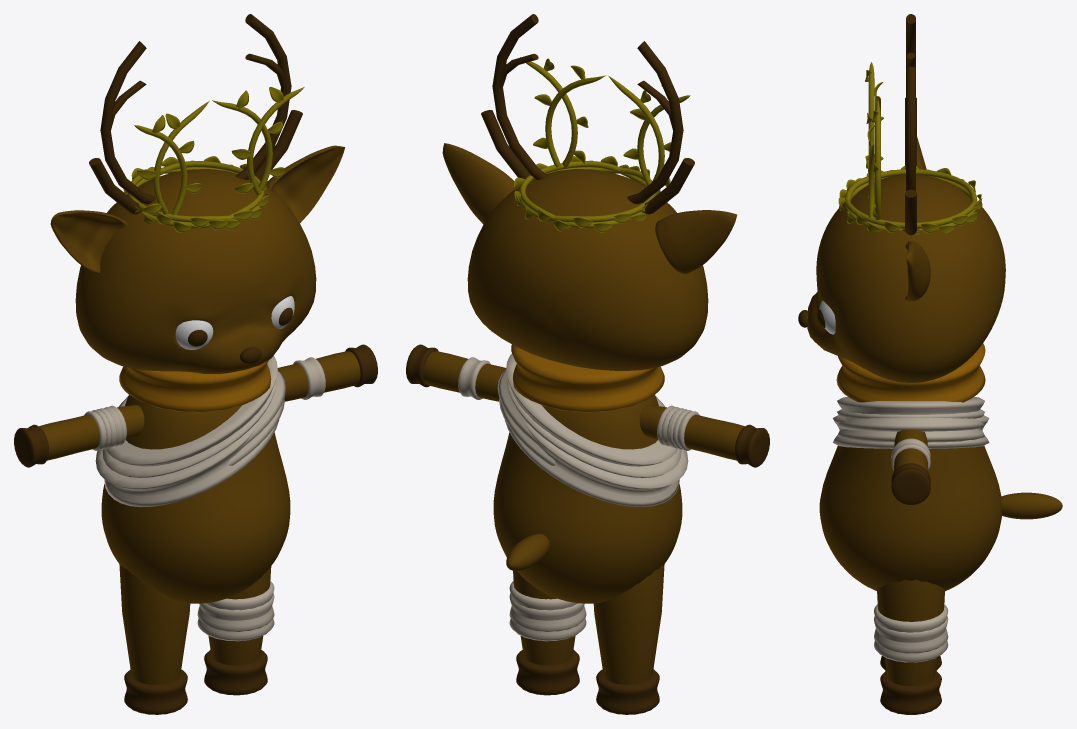
Rendered from deer2.fbx.
3 views of the same model, side by side, from view 1: azimuth 30°, elevation 25°; view 2: azimuth 150°, elevation 25°; view 3: azimuth 270°, elevation 25° (orthographic). The views are drawn at different scales.
Parts seen in each view (by area): view 1: group7_pCylinder18; view 2: group7_pCylinder18; view 3: group7_pCylinder18.
Boxes of the visible parts, left/top/right/bottom form: group7_pCylinder18: left=14, top=14, right=377, bottom=714; group7_pCylinder18: left=406, top=14, right=769, bottom=714; group7_pCylinder18: left=798, top=14, right=1062, bottom=714.
Size of the model in its own units: 28.75 by 52.79 by 19.63.
